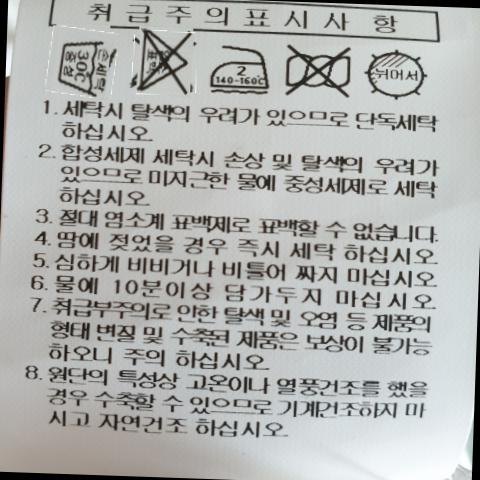DN_wring: (281, 43, 362, 100)
dry_flat_in_shade: (366, 48, 434, 100)
hand_wash: (55, 31, 125, 98)
iron_medium: (210, 46, 274, 95)
non_chlorine_bleach: (131, 31, 196, 99)
